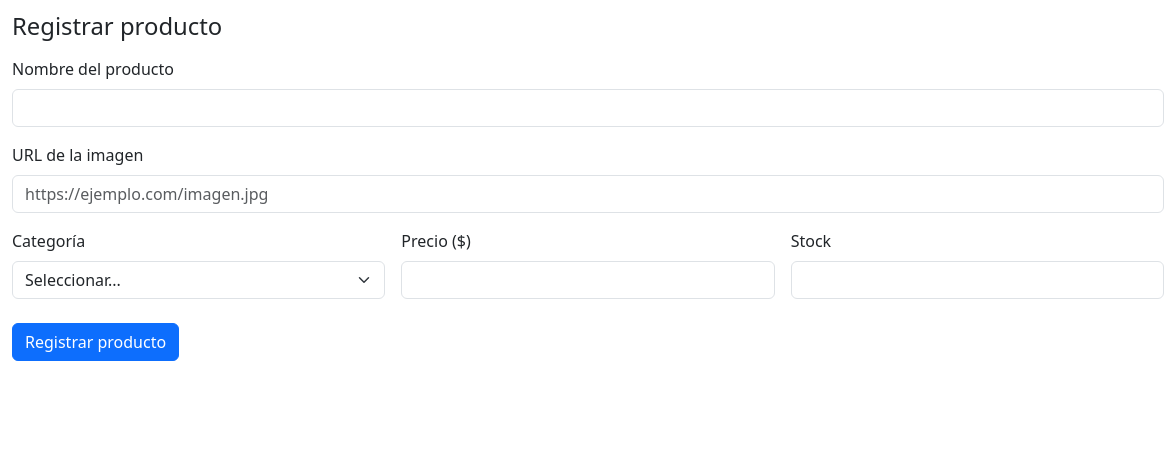
Test: Componente FormularioProducto › muestra errores si se intenta guardar un producto vacío
Step 1. Click the button "Registrar producto" → (96, 342), box [12, 323, 179, 361]
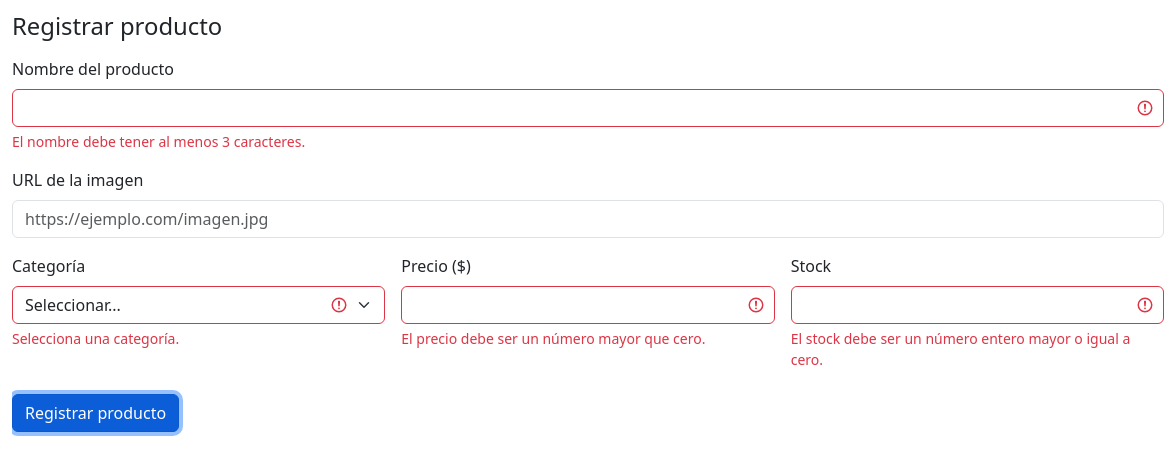
expect the text "El nombre debe tener al menos 3 caracteres." is shown: met, box [12, 132, 305, 151]
